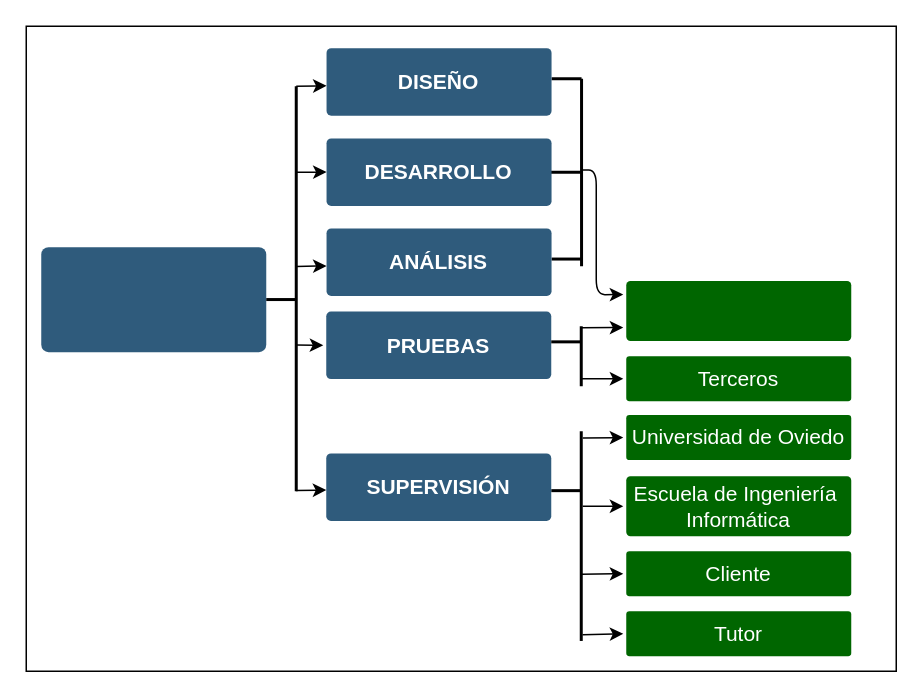
This 923x698 diagram has some shape labels left out. The centre of each missing label's shape, as x and y in pixels:
APLICACIÓN WEB INMOBILIARIA: (x=153, y=298)
Carlos Gómez Colmenero: (x=738, y=310)
